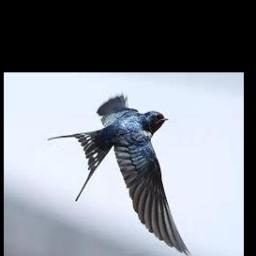Swallow: (48, 93, 192, 256)
